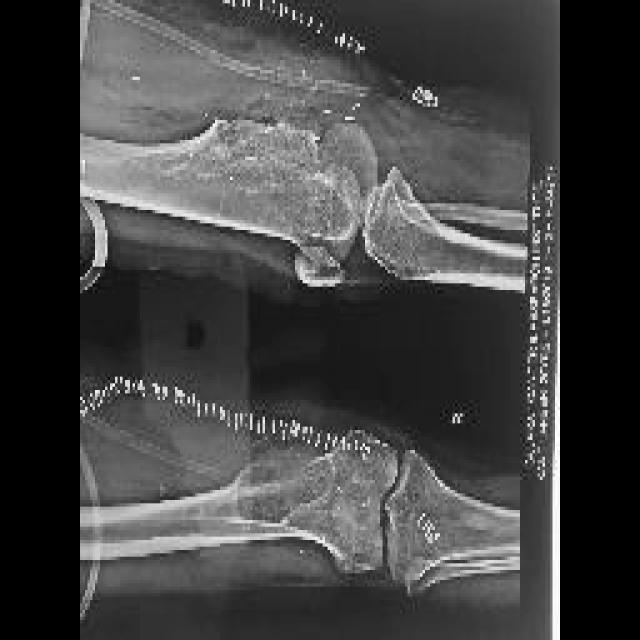bone-cancer: (185, 95, 348, 232), (232, 438, 336, 525)
